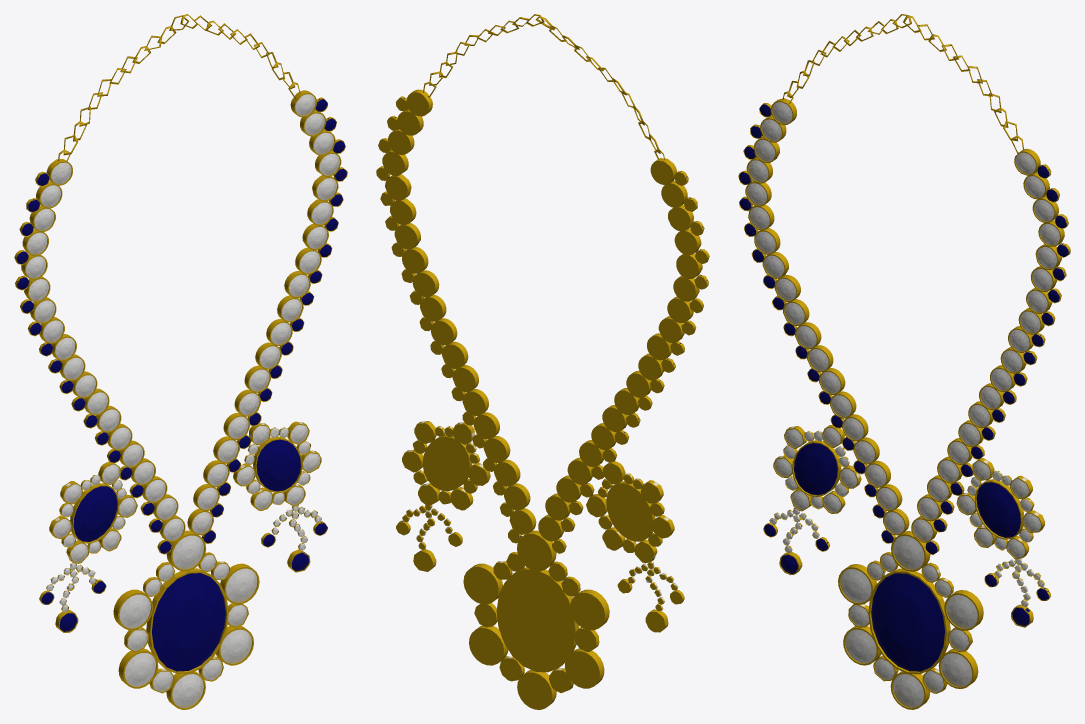
File: Necklace_mar11.fbx
3 views of the same model, side by side, from view 1: azimuth 30°, elevation 25°; view 2: azimuth 150°, elevation 25°; view 3: azimuth 330°, elevation 25° (orthographic).
Parts seen in each view (by area): view 1: polySurface3101; view 2: polySurface3101; view 3: polySurface3101.
Boxes of the visible parts, x1,y1,x2,y2 form: polySurface3101: (14, 14, 347, 709); polySurface3101: (376, 14, 709, 709); polySurface3101: (738, 14, 1070, 709).
Bounding box in the file's own units: 0.5162 × 1.03 × 0.0186.
